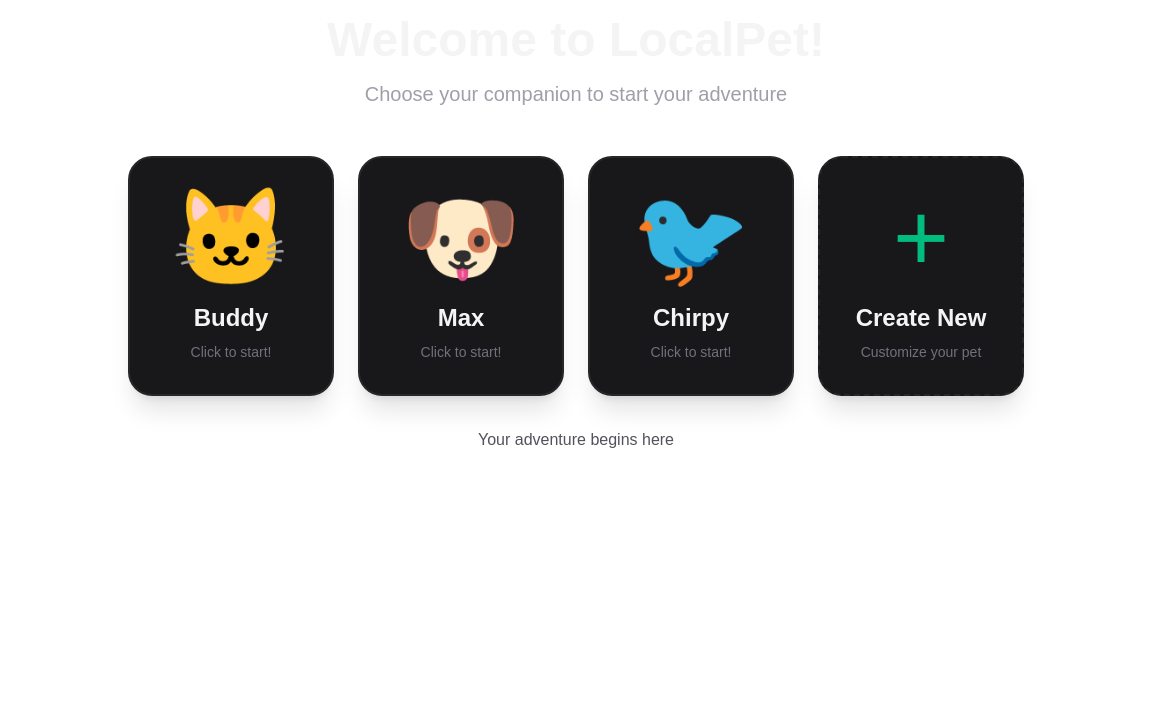
Scenario: IntroScreen Component › should open modal when create new is clicked
Note: Click create new button
Click the heading "Create New" at (921, 318), box left=856, top=302, right=986, bottom=334
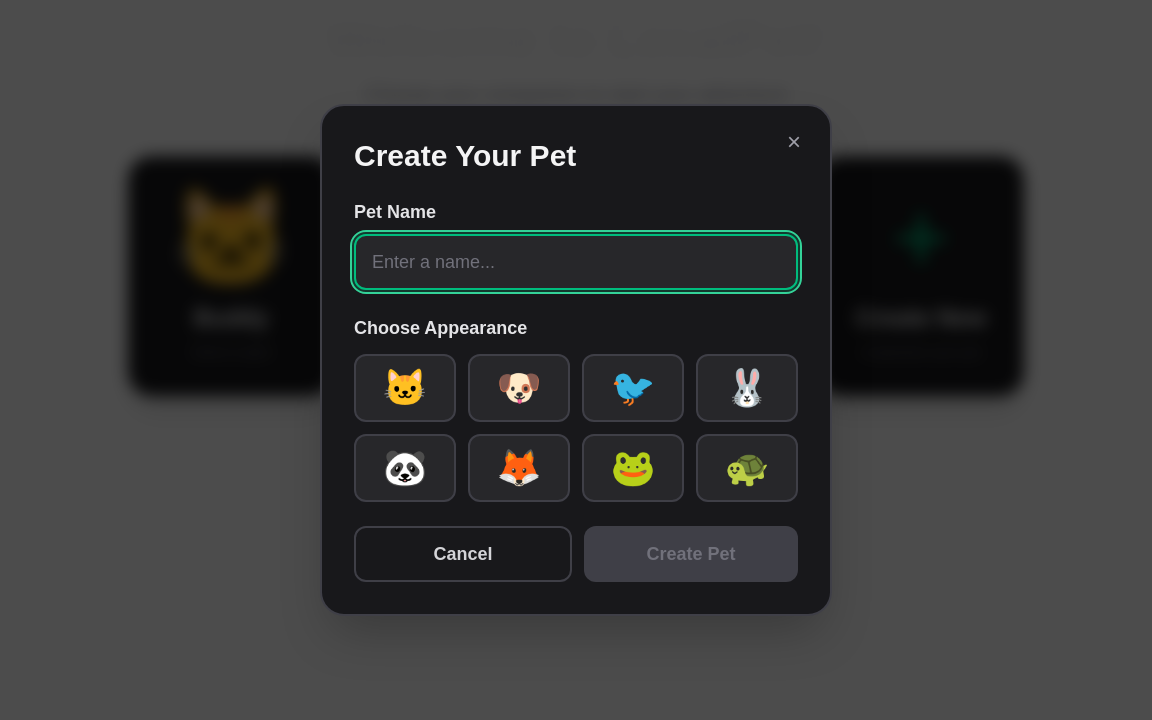
Check: the heading "Create Your Pet" is shown, box left=354, top=139, right=576, bottom=172
